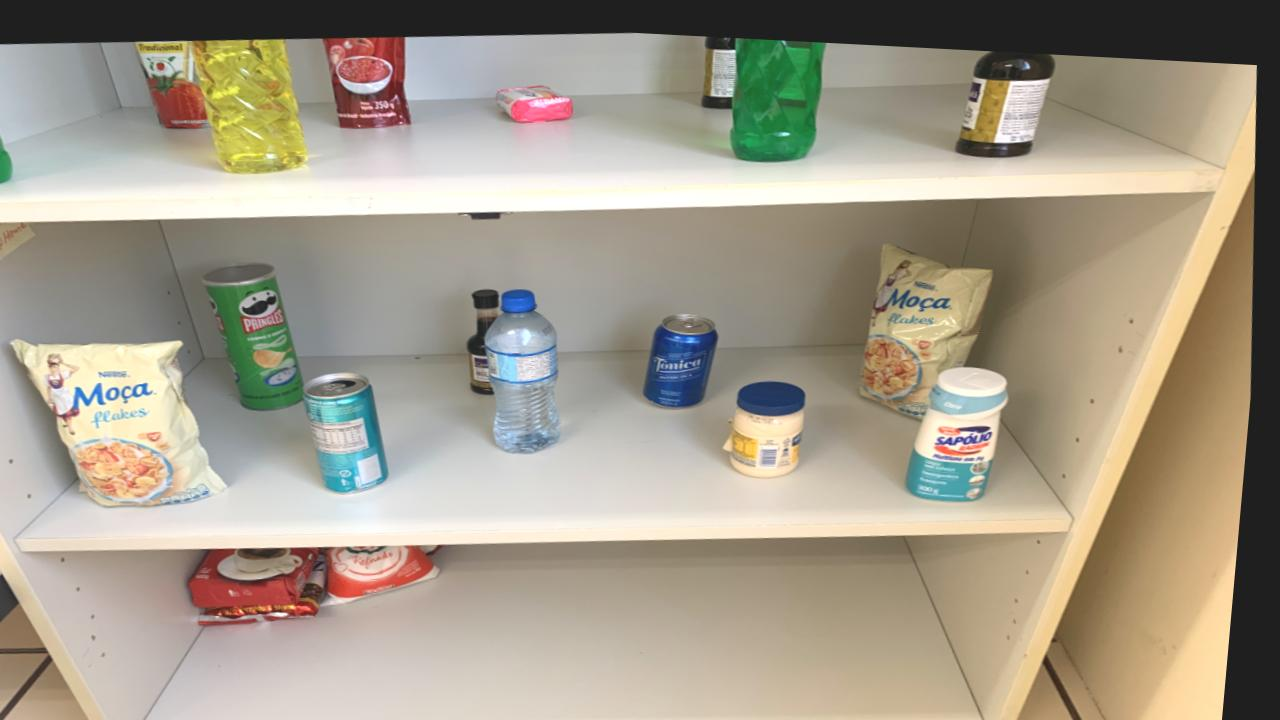Cleaner-Cleanup_Items: (916, 355, 1013, 489)
Detergent-Cleanup_Items: (191, 36, 309, 170), (733, 30, 825, 153), (0, 130, 16, 183)
English_Sauce-Pantry_Items: (958, 40, 1056, 146), (472, 283, 505, 388), (703, 29, 738, 100)
Flakes-Snacks: (18, 339, 234, 504), (865, 234, 996, 407)
Mayonnaise-Pantry_Items: (733, 372, 810, 468)
Pringles-Snacks: (206, 259, 309, 406)
Soap-Cleanup_Items: (497, 79, 575, 115)
Tea-Drinks: (312, 367, 397, 489)
Tomato_Sauce-Pantry_Items: (324, 32, 412, 124), (136, 38, 211, 127)
Tonic-Drinks: (650, 305, 723, 399)
Water_Bottle-Drinks: (490, 284, 567, 447)
